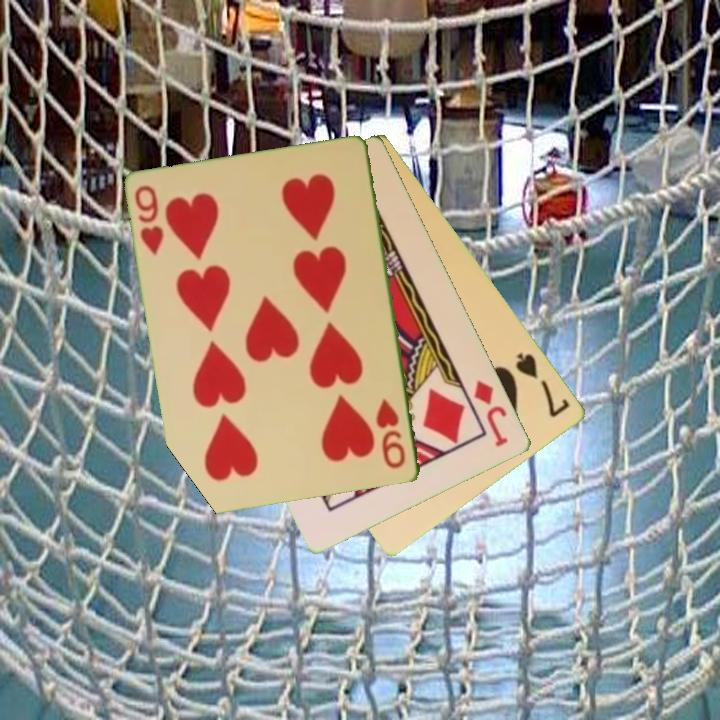7s: (512, 349, 573, 421)
9h: (373, 395, 409, 472), (131, 182, 167, 259)
Jd: (470, 376, 512, 450)
